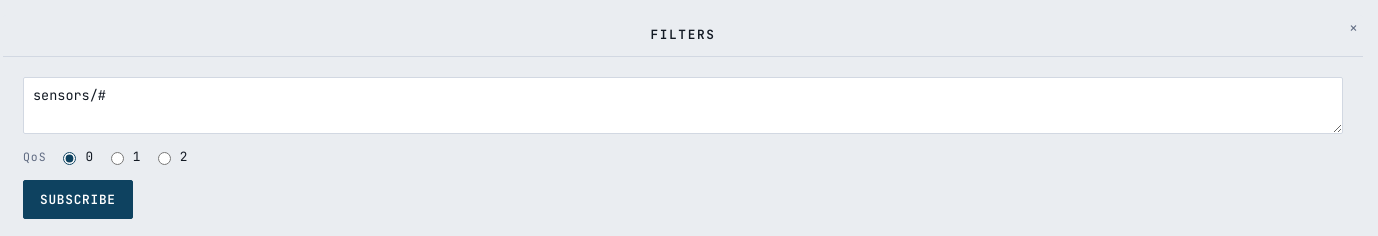
SubscribePanel › subscribing to a list at once › says how many it is about to send
Replace the text in the text box named "Topic filter" with "a/#, b/#" at [683, 105], box [23,77,1343,134]
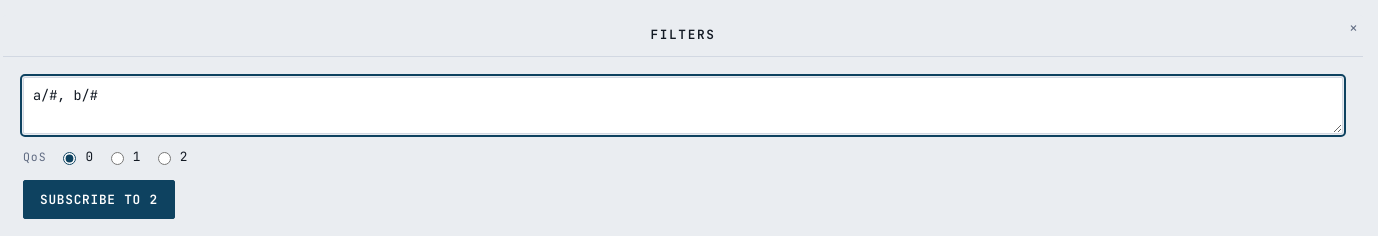
Result: the button "Subscribe to 2" is shown at [23,180,175,219]
